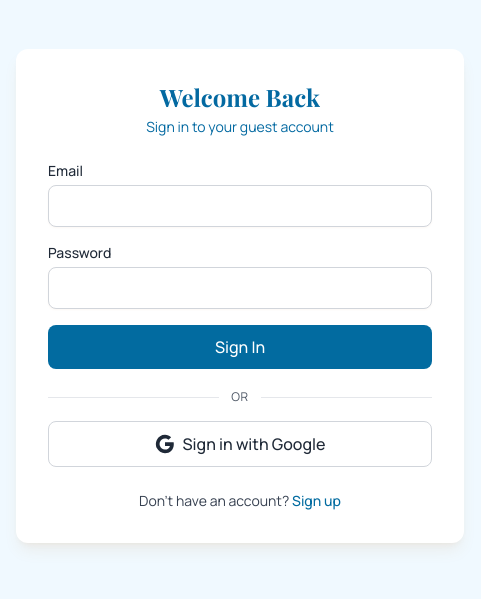
Scenario: GuestLogin page › shows invalid credentials error on 401
Type "guest@brekora.test" into the field labelled "Email" at point(240, 206), box [48, 185, 432, 227]
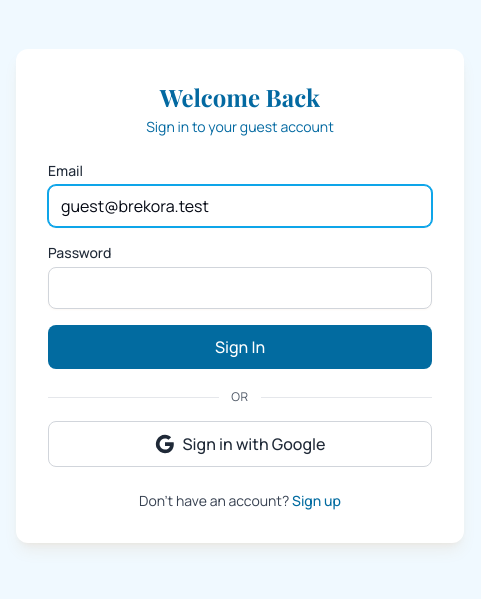
Type "WrongPass123" into the password field labelled "Password" at point(240, 288), box [48, 267, 432, 309]
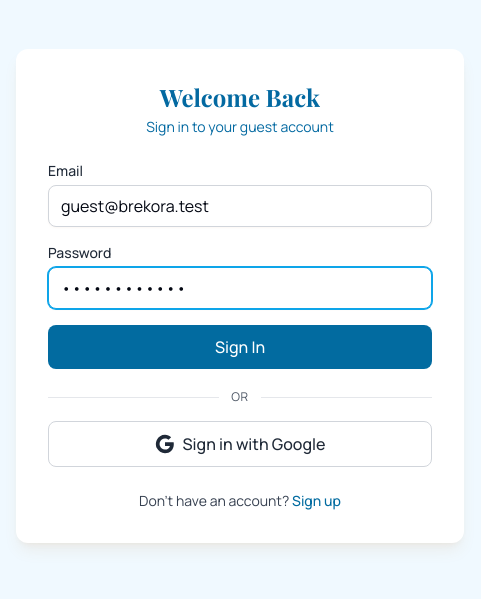
Click the button "Sign In" at point(240, 347), box [48, 325, 432, 369]
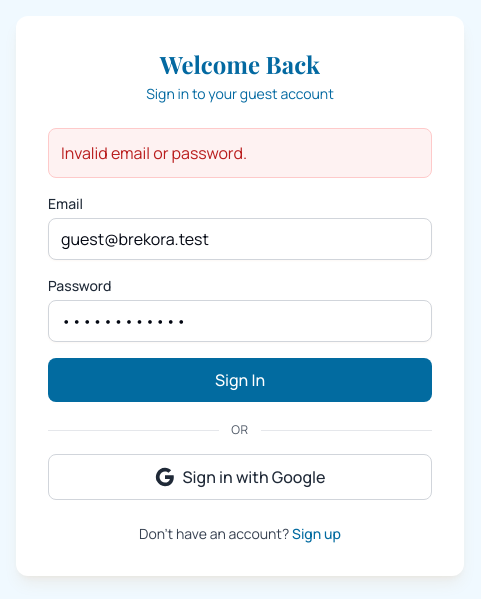
Expected: the text "Invalid email or password." is shown, [48, 128, 432, 178]
